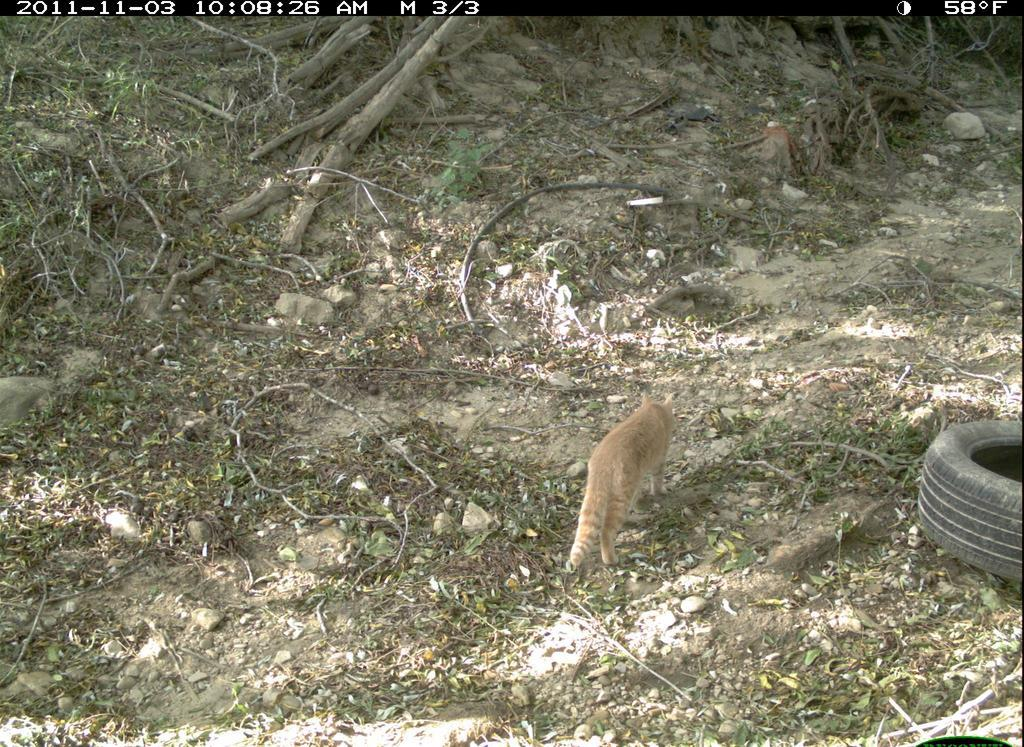cat: (555, 358, 692, 606)
